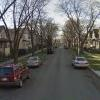Tree: (9, 2, 60, 42)
